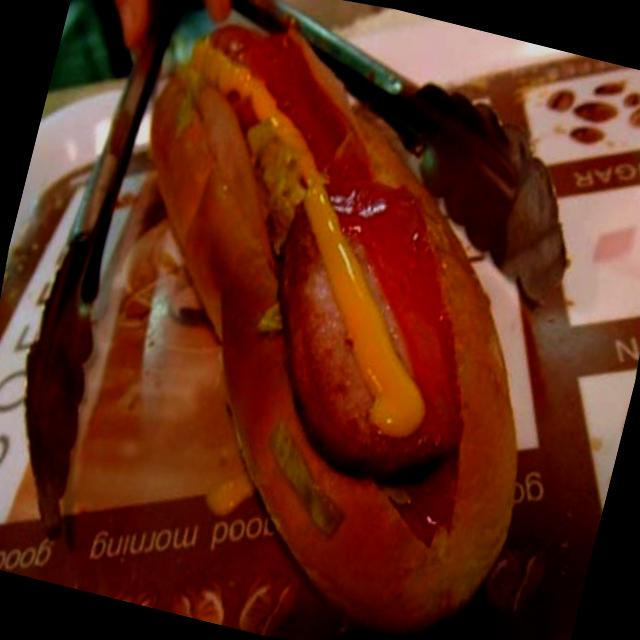Hot Dog: (31, 0, 635, 640)
